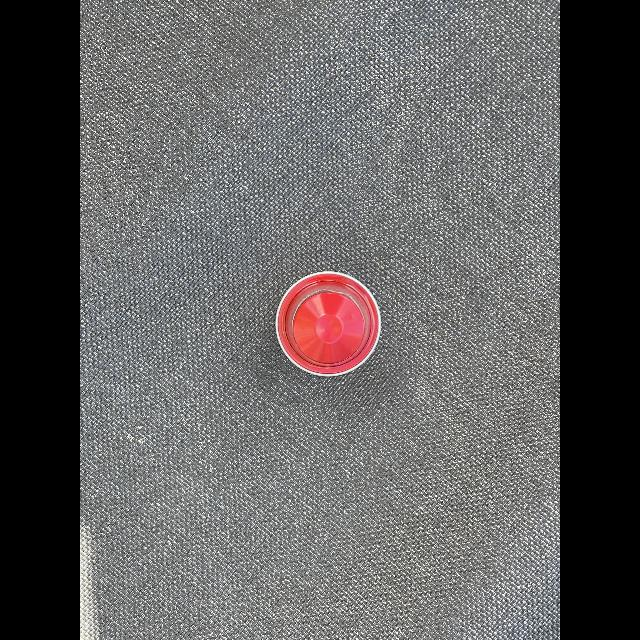intact_capsule: (267, 263, 391, 385)
